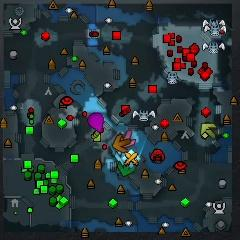Other: (122, 149, 141, 168)
p3: (87, 112, 104, 133)
x1: (121, 131, 135, 148)
x2: (200, 123, 216, 139)
x3: (114, 152, 126, 164)
x4: (117, 162, 136, 176)
x5: (113, 134, 129, 152)
